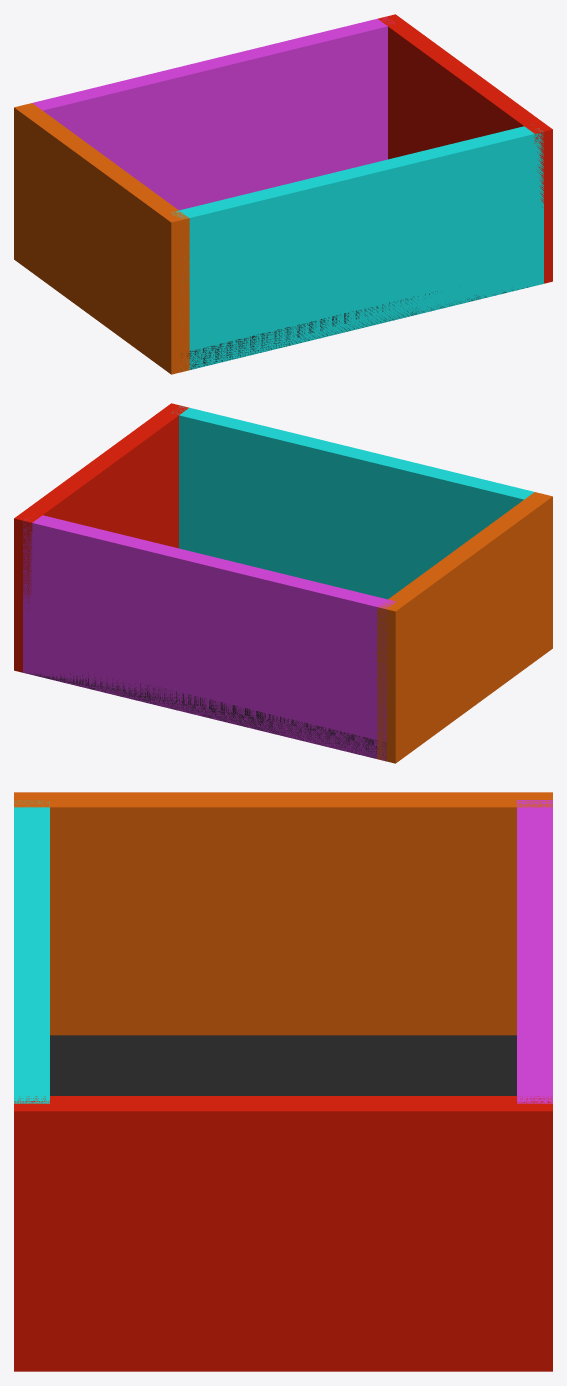
The model's file is Bocs.dae.
3 renders of one model, top to bottom at view 1: azimuth 30°, elevation 25°; view 2: azimuth 150°, elevation 25°; view 3: azimuth 270°, elevation 25°, orthographic. The views are drawn at different scales.
Parts seen in each view (by area): view 1: Cube.003, Cube.001, Cube.004, Cube.002, Cube; view 2: Cube.001, Cube.003, Cube.004, Cube.002, Cube; view 3: Cube.002, Cube.004, Cube, Cube.001, Cube.003.
Part boxes in pixels (x1,y1,x2,y2): Cube.003: (171,126,543,369); Cube.001: (32,16,394,210); Cube.004: (14,103,189,374); Cube.002: (378,14,552,283); Cube: (180,287,527,369); Cube.001: (23,515,396,761); Cube.003: (172,406,534,599); Cube.004: (377,492,552,763); Cube.002: (14,403,188,672); Cube: (26,673,386,759); Cube.002: (14,1096,552,1371); Cube.004: (14,792,552,1035); Cube: (50,1035,516,1095); Cube.001: (517,800,552,1103); Cube.003: (14,800,49,1103).
Bounding box in the file's own units: 42 × 30 × 16.
